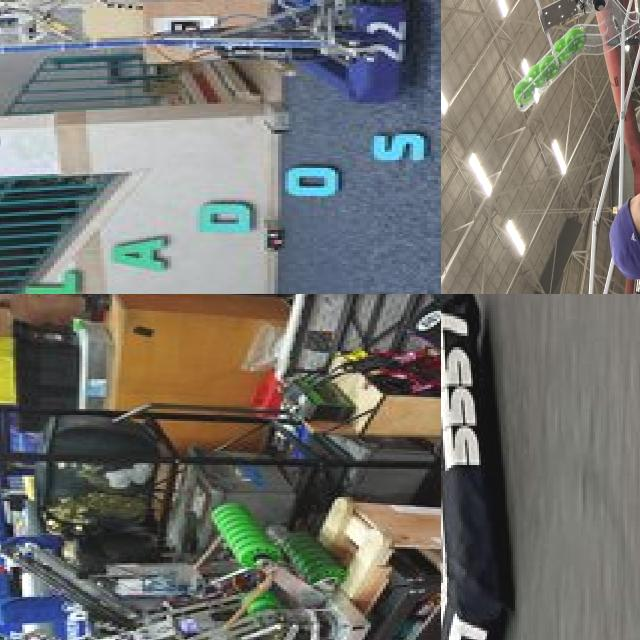FRC-Robots: (441, 0, 640, 294), (441, 294, 573, 640), (0, 0, 440, 100), (0, 549, 407, 640)
